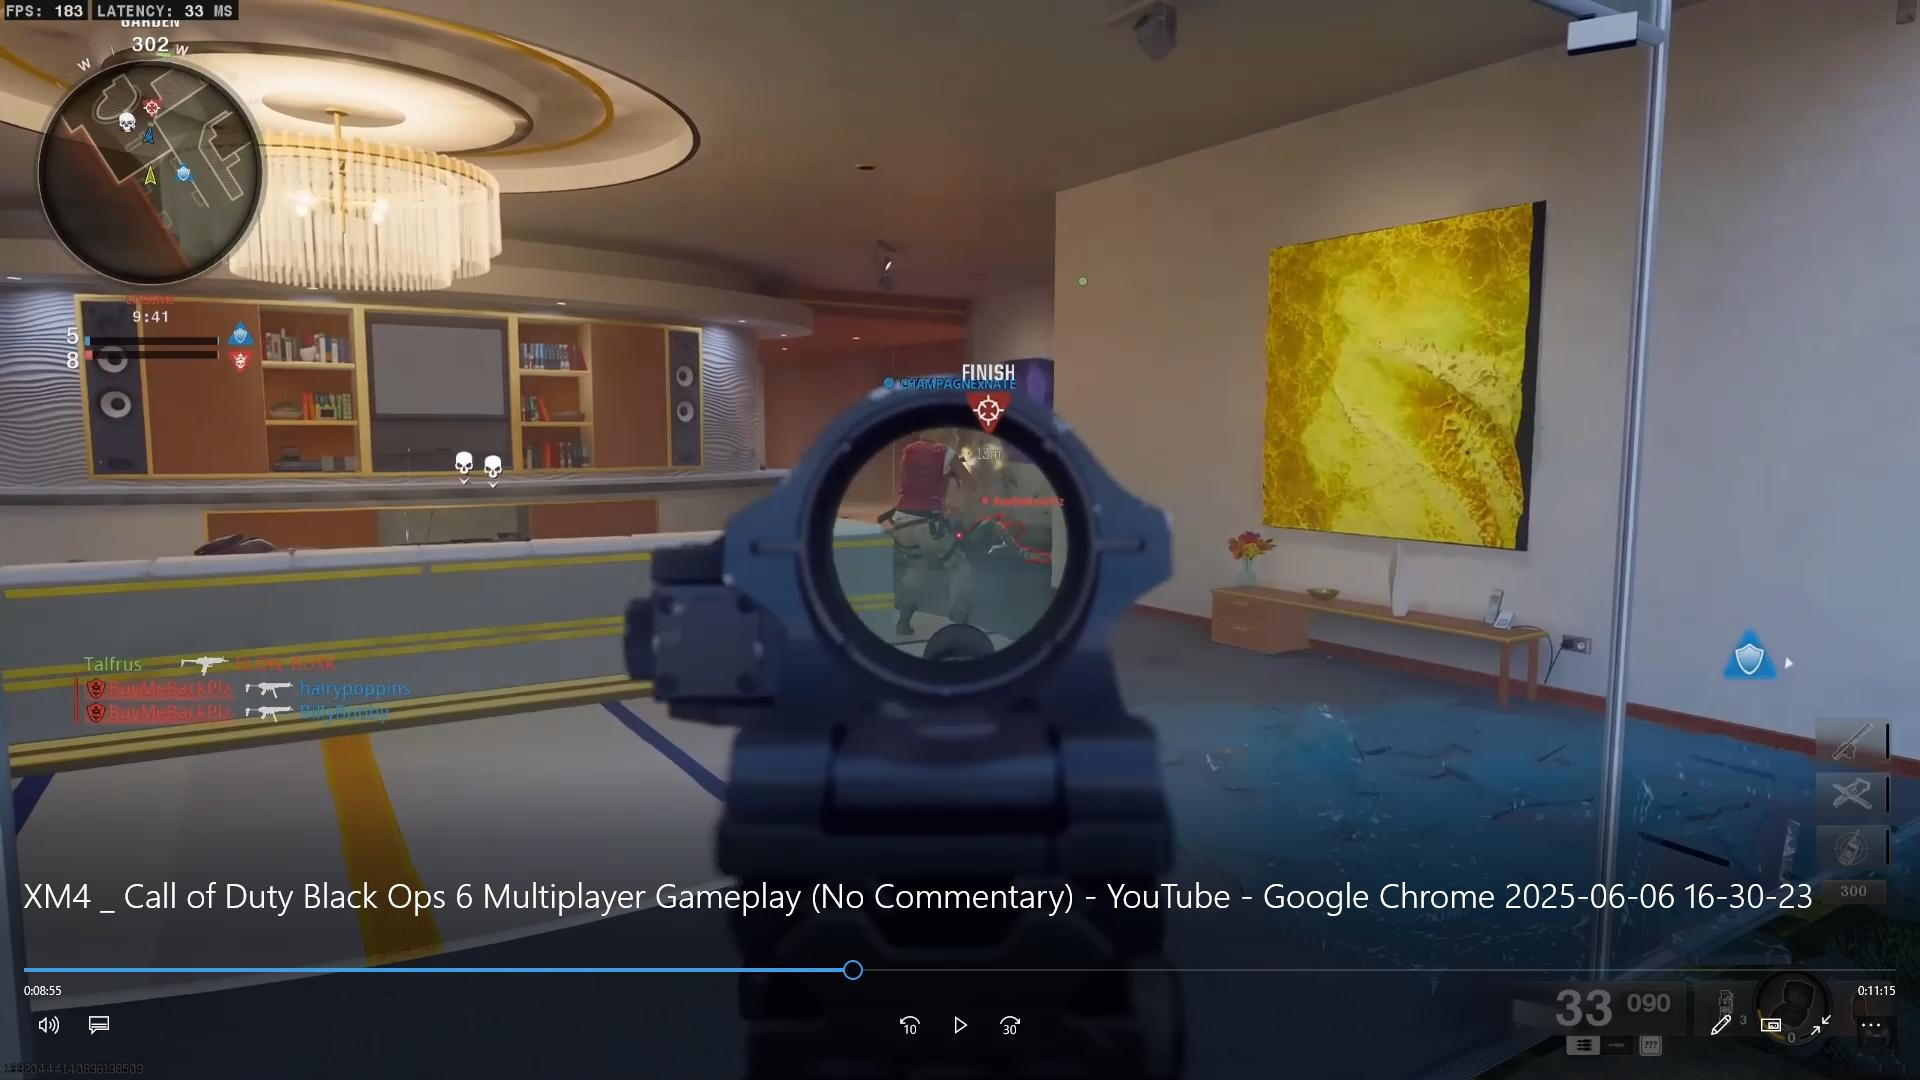Enemy: (893, 435, 967, 622), (976, 510, 1051, 571)
